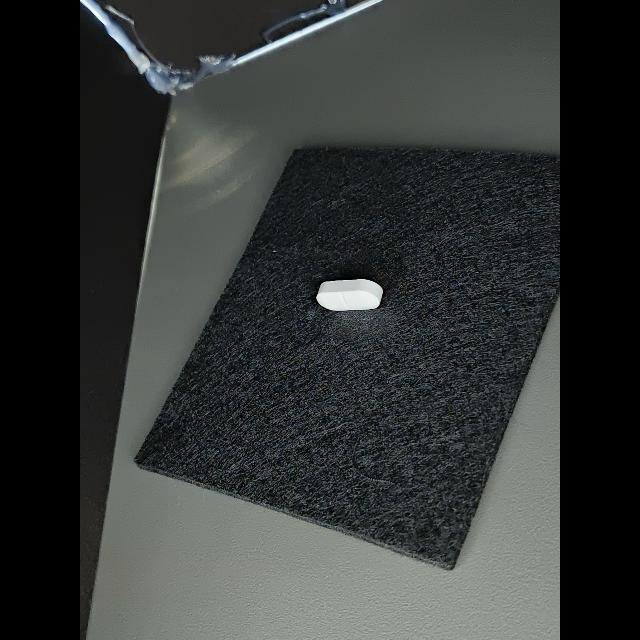Intact Pill: (316, 279, 383, 311)
